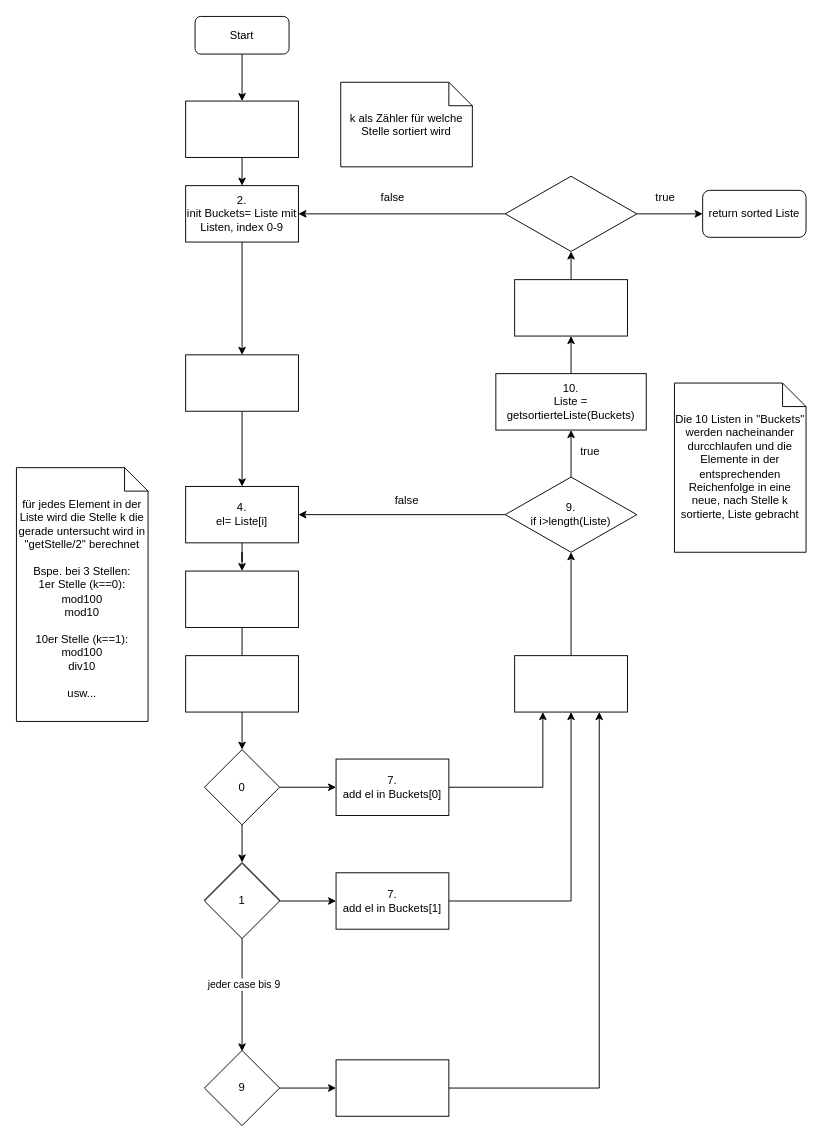
Some shapes in this 823 by 1142 pixel diagram are drawn without their labels. The shapes that lost their labels are listed below. From the top down, each one's centre as x and y in pixels, then its label:
point (241, 128): 1. k = 0
point (570, 213): 12. if digits = k
point (570, 307): 11. k++
point (241, 382): 3. i = 0
point (241, 598): 5. stelle=getStelle(el,k)
point (241, 683): 6. switch(stelle)
point (570, 683): 8. i++
point (392, 1087): 7. add el in Buckets[9]
